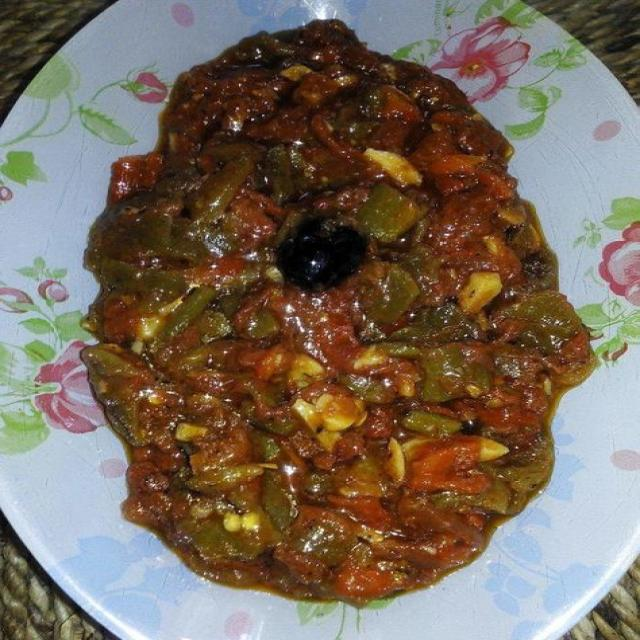Salade mechweya: (70, 9, 627, 602)
